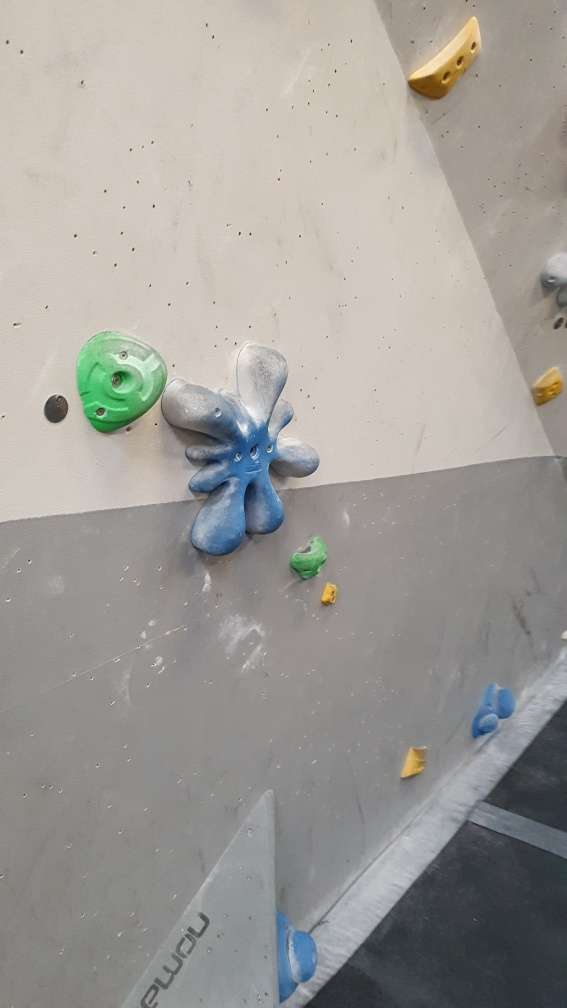Hand Start: (41, 394, 70, 430)
Jug: (76, 324, 174, 440), (288, 530, 330, 581)
Octopus Pinch: (160, 339, 325, 563)
Sloper: (273, 899, 321, 1004)
